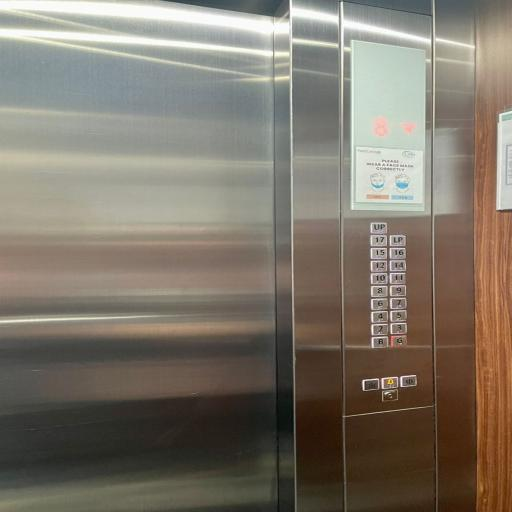closet: (0, 0, 508, 512)
